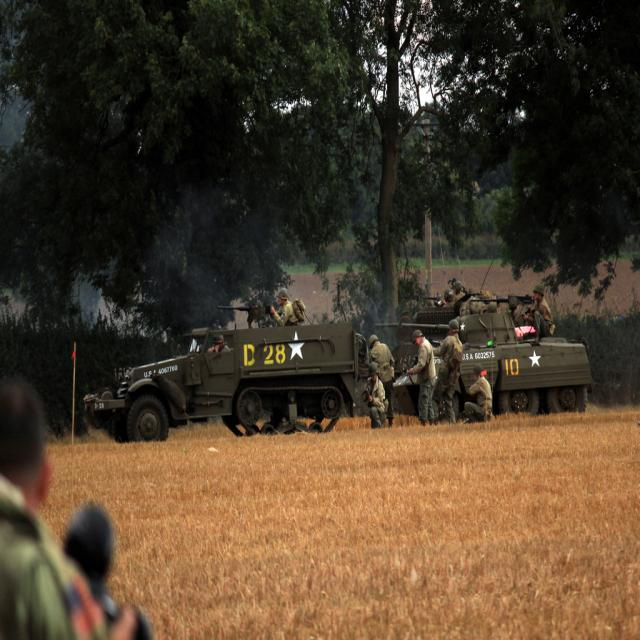tank: (389, 303, 592, 415)
